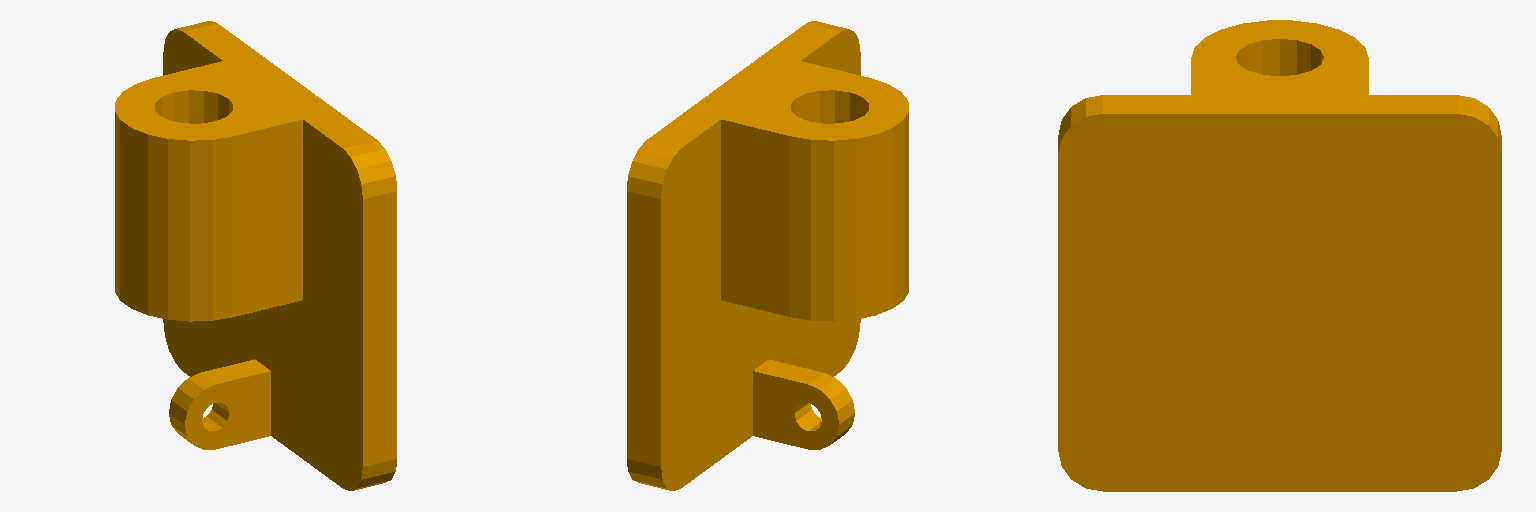
URDF robot description (00078_socket):
<?xml version="1.0"?>
<robot name="00078_socket">
	<link name="00078_socket">
		<visual>
			<geometry>
				<mesh filename="../mesh/00078/asset_socket.obj"/>
			</geometry>
		</visual>
		<collision>
			<geometry>
				<mesh filename="../mesh/00078/asset_socket.obj"/>
			</geometry>
			<sdf resolution="256"/>
		</collision>
	</link>
</robot>

--- Render facts (derived) ---
The picture shows the robot from 3 angles, left to right: view 1: azimuth 30°, elevation 25°; view 2: azimuth 150°, elevation 25°; view 3: azimuth 270°, elevation 25°; orthographic projection.
Robot: 00078_socket — 1 links, 0 joints (none); root link 00078_socket; default pose: all joints at 0.
Visible links, largest first — view 1: 00078_socket; view 2: 00078_socket; view 3: 00078_socket.
Boxes of the visible links, bbox=[...] form: 00078_socket: bbox=[115, 21, 396, 490]; 00078_socket: bbox=[627, 21, 908, 490]; 00078_socket: bbox=[1058, 20, 1501, 491].
Size in the robot's own frame: 0.0219 by 0.0439 by 0.0413 metres.
Meshes: 1 distinct files referenced, 1 mesh visuals loaded (1 OBJ).